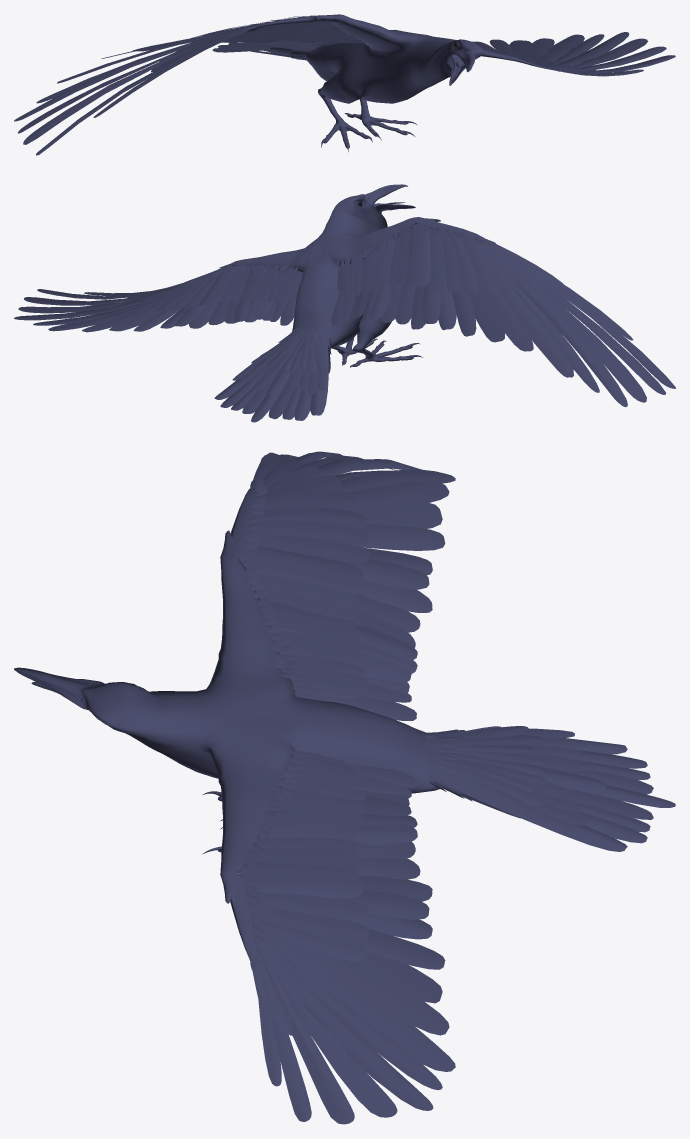
File: raven.dae
3 views of the same model, one above another, from view 1: azimuth 30°, elevation 25°; view 2: azimuth 150°, elevation 25°; view 3: azimuth 270°, elevation 25° (orthographic). The views are drawn at different scales.
Visible parts, largest first — view 1: Raven; view 2: Raven; view 3: Raven.
Part boxes in pixels (bbox=[...]): Raven: bbox=[14, 14, 675, 155]; Raven: bbox=[14, 184, 675, 422]; Raven: bbox=[14, 451, 675, 1124].
Bounding box in the file's own units: 3.05 × 0.6737 × 1.54.
